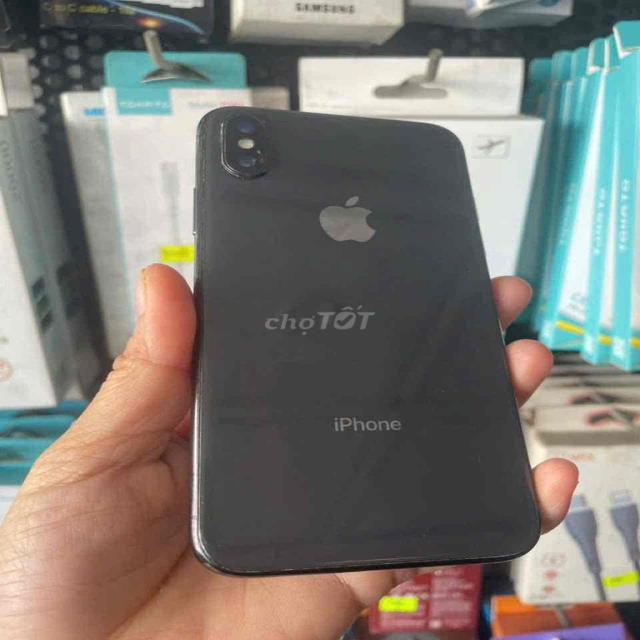gen_x_xs: (174, 102, 555, 588)
scratch: (206, 548, 532, 582), (193, 116, 210, 229), (429, 381, 468, 403), (470, 448, 494, 472), (408, 522, 441, 539), (466, 342, 490, 362), (259, 118, 274, 132)
